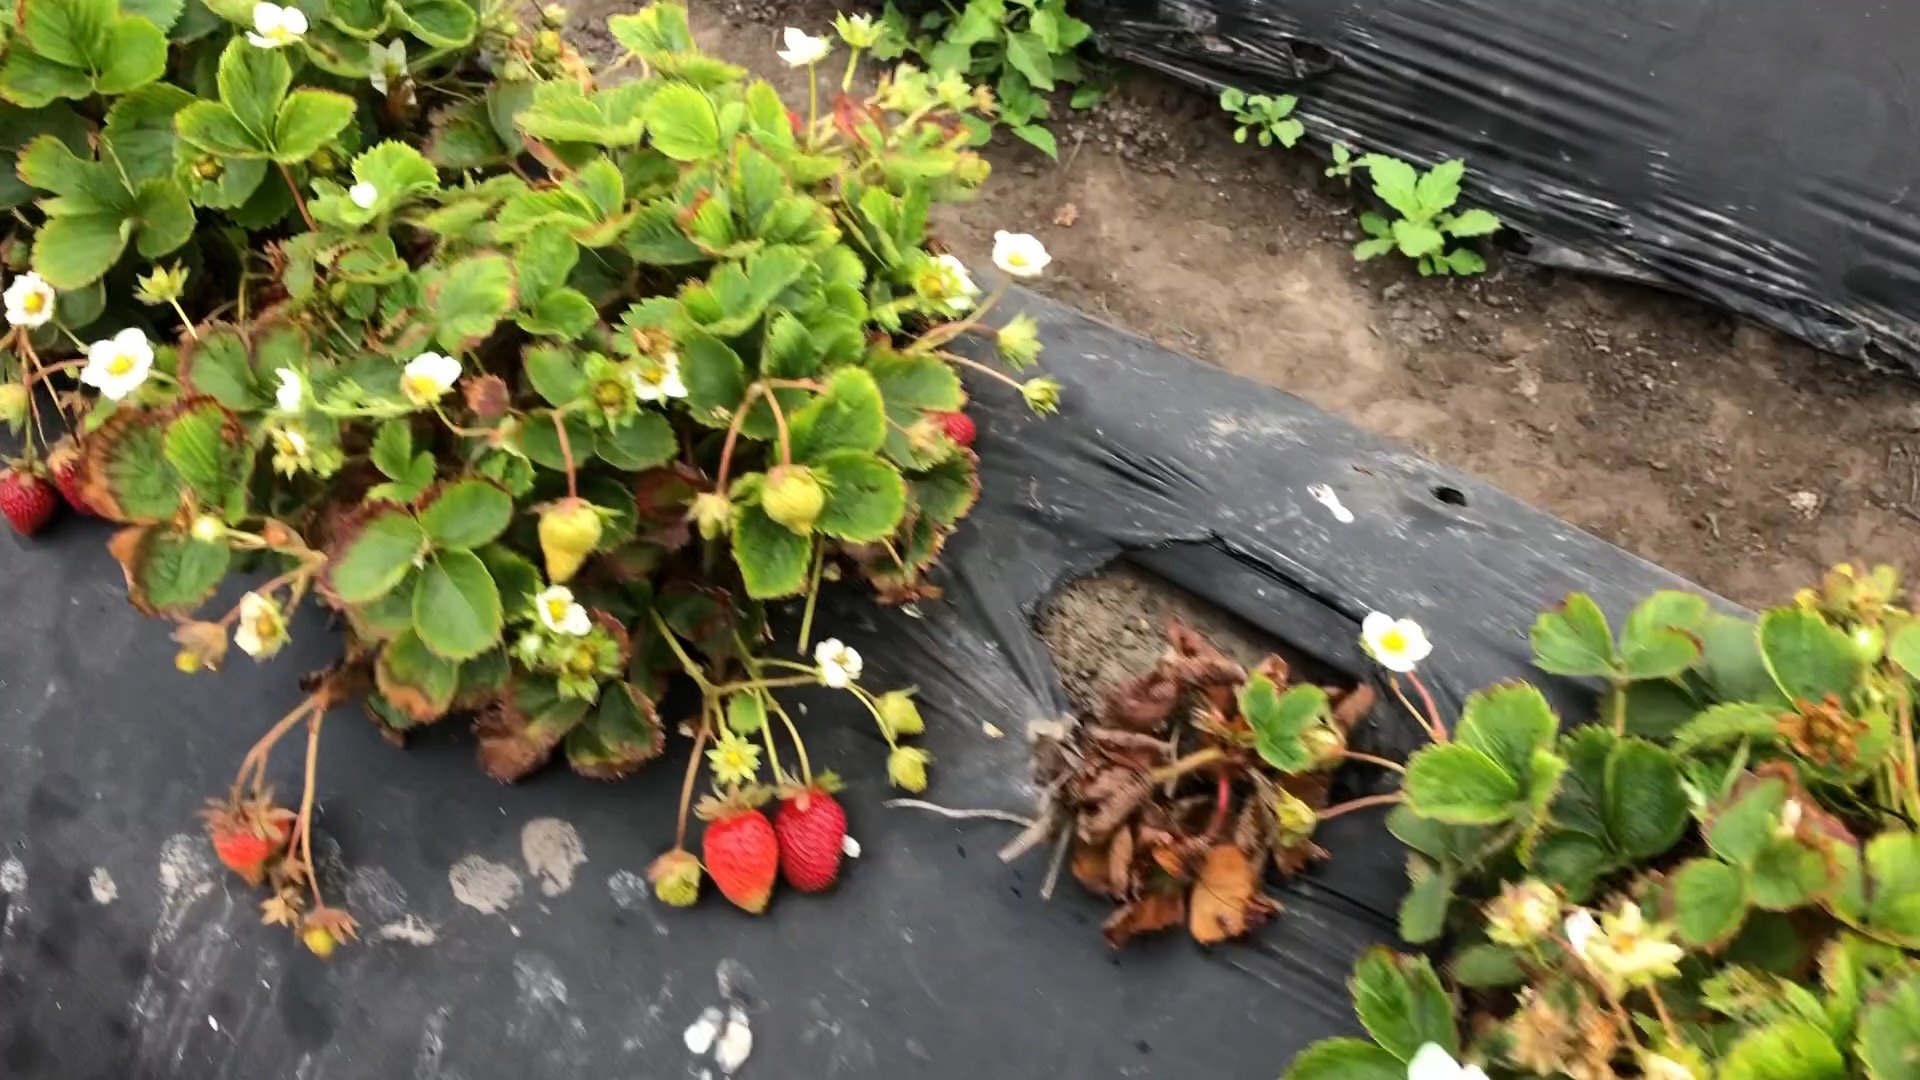ripe_strawberry: (695, 799, 781, 918), (771, 781, 851, 898), (922, 409, 981, 450)
unripe_strawberry: (208, 800, 297, 891), (535, 493, 607, 589), (760, 465, 832, 538), (1, 460, 57, 541), (54, 448, 100, 521), (651, 851, 703, 909), (876, 690, 932, 738), (887, 744, 931, 796), (694, 498, 732, 543)
